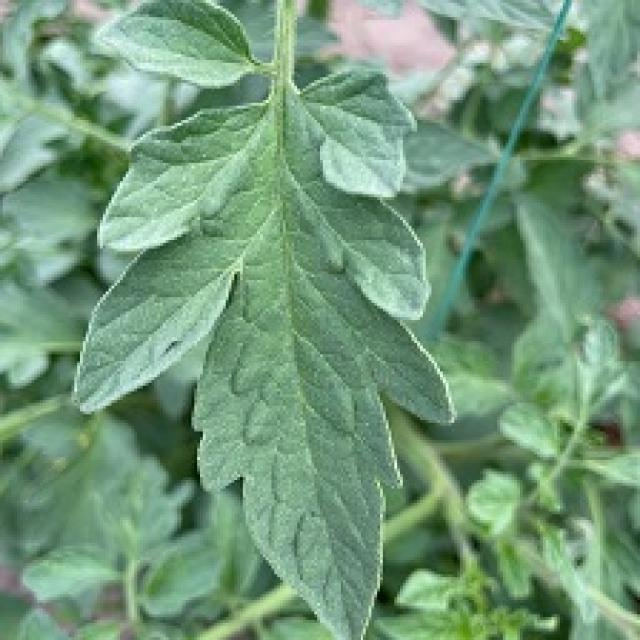Healthy: (59, 0, 480, 640)
